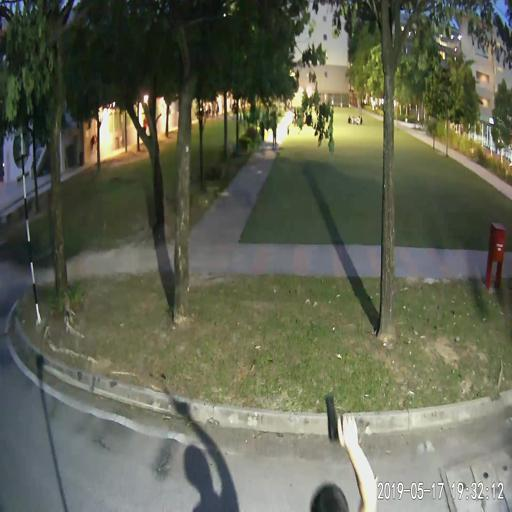pistol: (324, 393, 356, 442)
